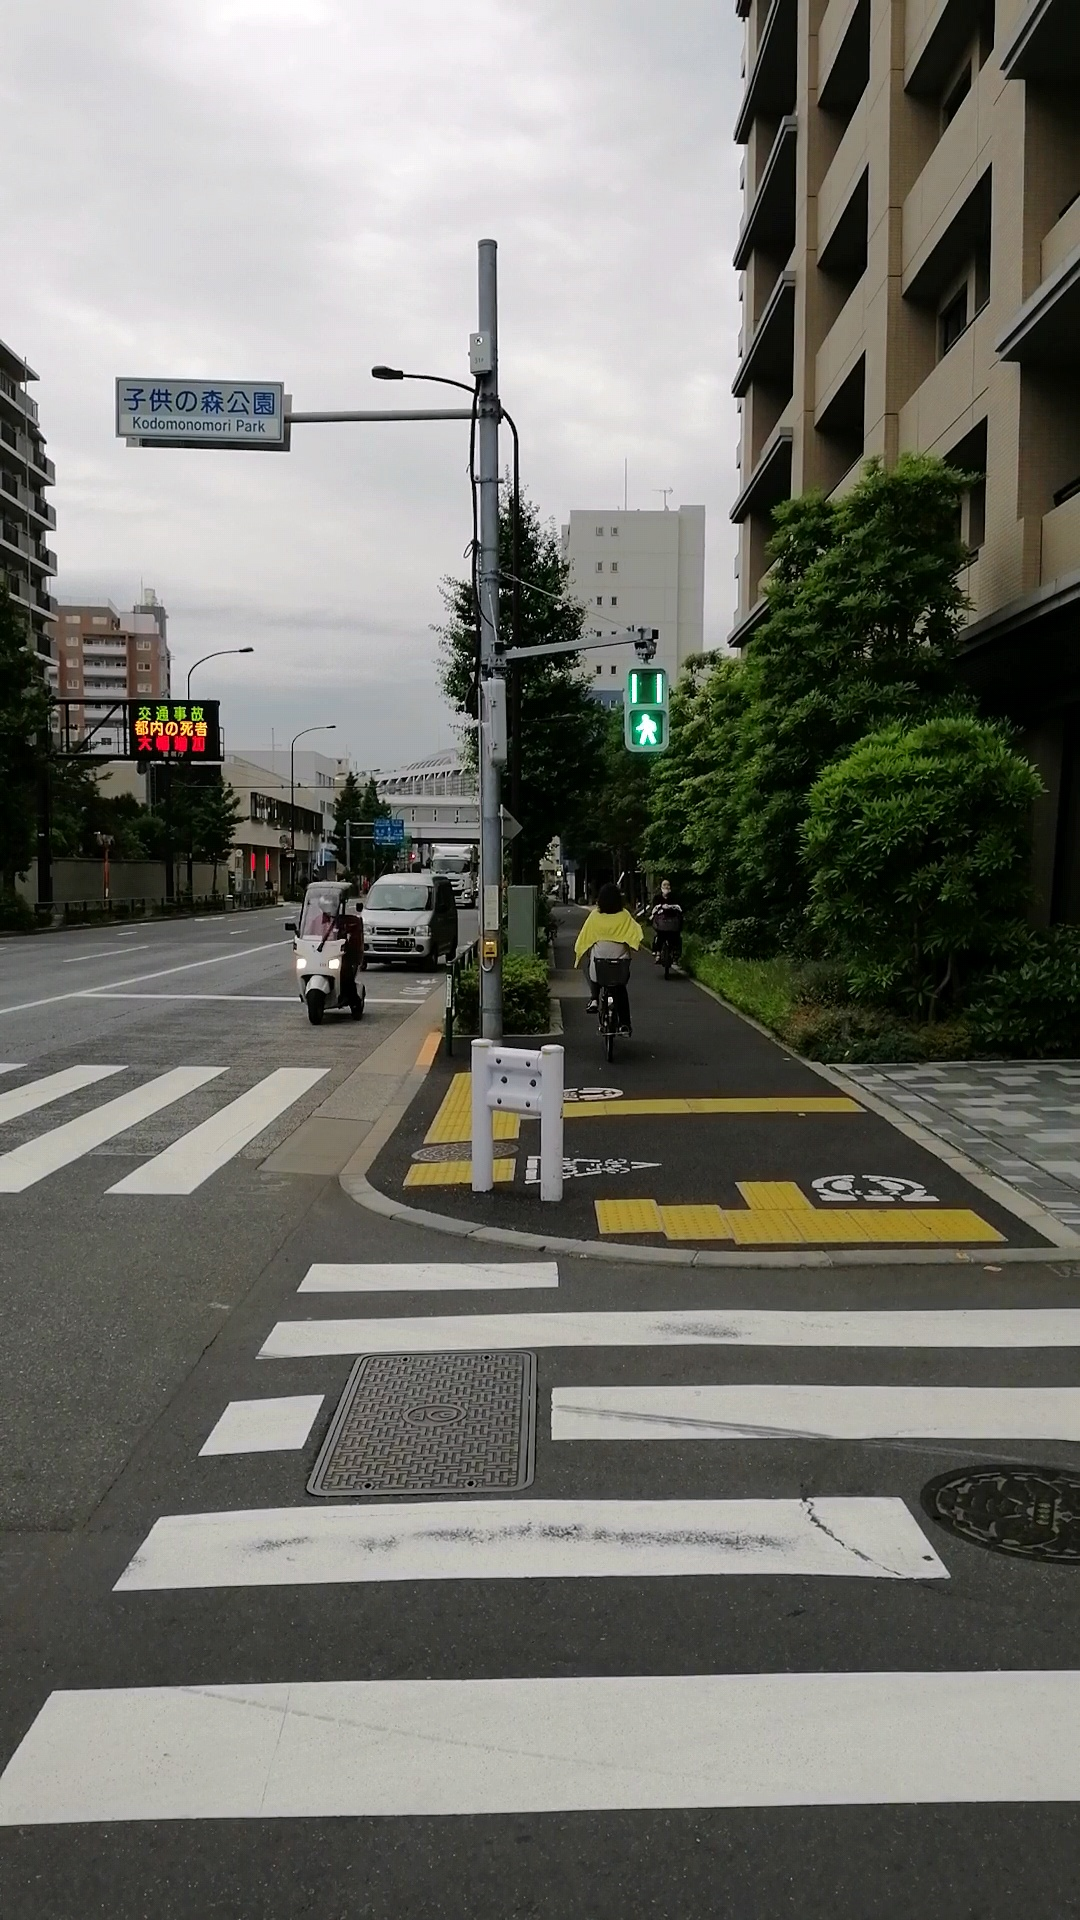green: (622, 667, 669, 752)
